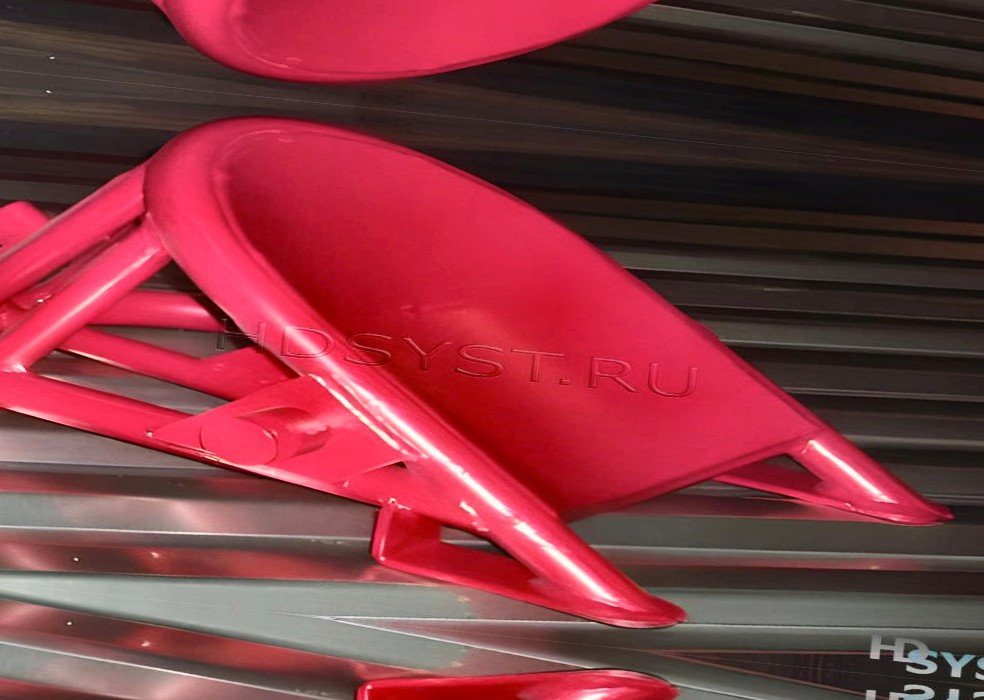chock: (0, 66, 984, 665)
